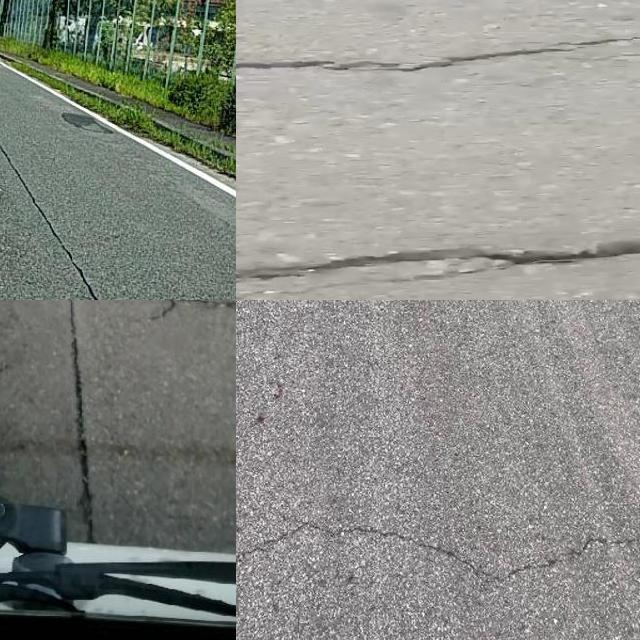Melintang: (236, 508, 640, 596), (236, 233, 640, 298), (236, 29, 640, 86)
Memanjang: (0, 119, 118, 300), (60, 300, 112, 546)
